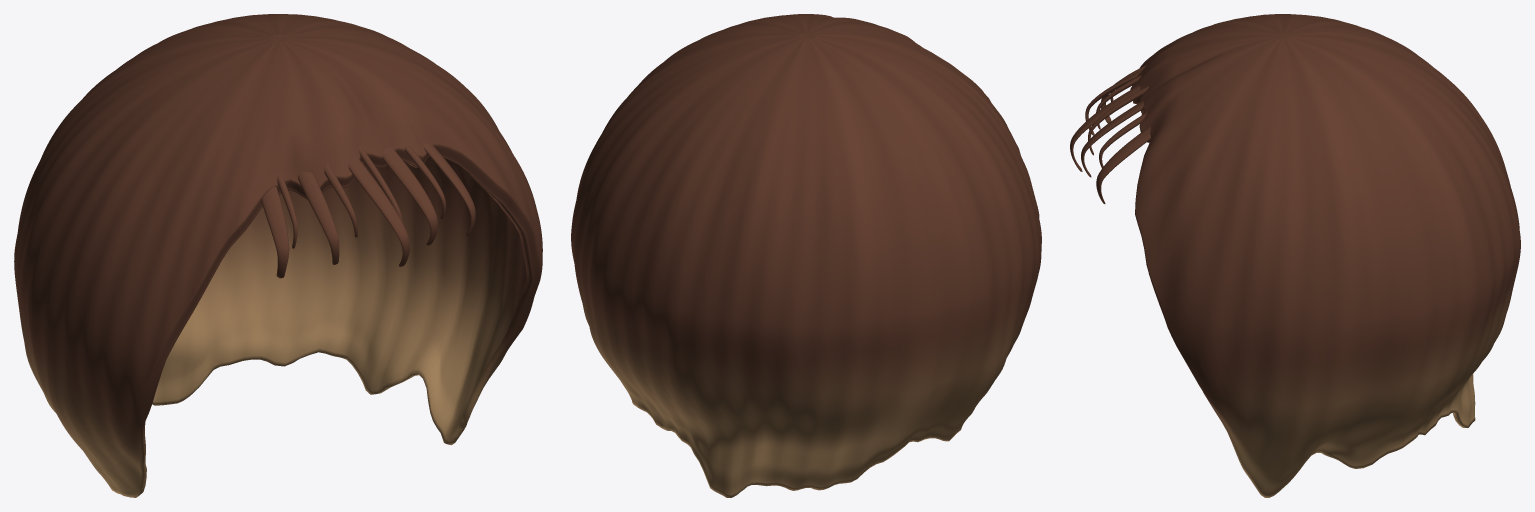
Rendered from side-sweep-pashmina-ombre.glb.
The picture shows the model from 3 angles, left to right: view 1: azimuth 30°, elevation 25°; view 2: azimuth 150°, elevation 25°; view 3: azimuth 270°, elevation 25°; orthographic projection. The views are drawn at different scales.
Parts seen in each view (by area): view 1: Hair / layered lob, Fringe / arched wisp 05, Fringe / arched wisp 07, Fringe / arched wisp 01, Fringe / arched wisp 03, Fringe / arched wisp 09; view 2: Hair / layered lob; view 3: Hair / layered lob, Fringe / arched wisp 09, Fringe / arched wisp 07, Fringe / arched wisp 05.
Part boxes in pixels (x1=…): Hair / layered lob: x1=14, y1=14, x2=542, y2=497; Fringe / arched wisp 05: x1=348, y1=158, x2=409, y2=267; Fringe / arched wisp 07: x1=382, y1=148, x2=437, y2=245; Fringe / arched wisp 01: x1=261, y1=186, x2=289, y2=278; Fringe / arched wisp 03: x1=298, y1=171, x2=339, y2=264; Fringe / arched wisp 09: x1=423, y1=143, x2=475, y2=236; Hair / layered lob: x1=571, y1=14, x2=1041, y2=497; Hair / layered lob: x1=1130, y1=14, x2=1520, y2=497; Fringe / arched wisp 09: x1=1096, y1=126, x2=1150, y2=203; Fringe / arched wisp 07: x1=1081, y1=101, x2=1143, y2=177; Fringe / arched wisp 05: x1=1070, y1=85, x2=1140, y2=171.
Size of the model in its own units: 0.8384 by 0.7657 by 0.7984.
